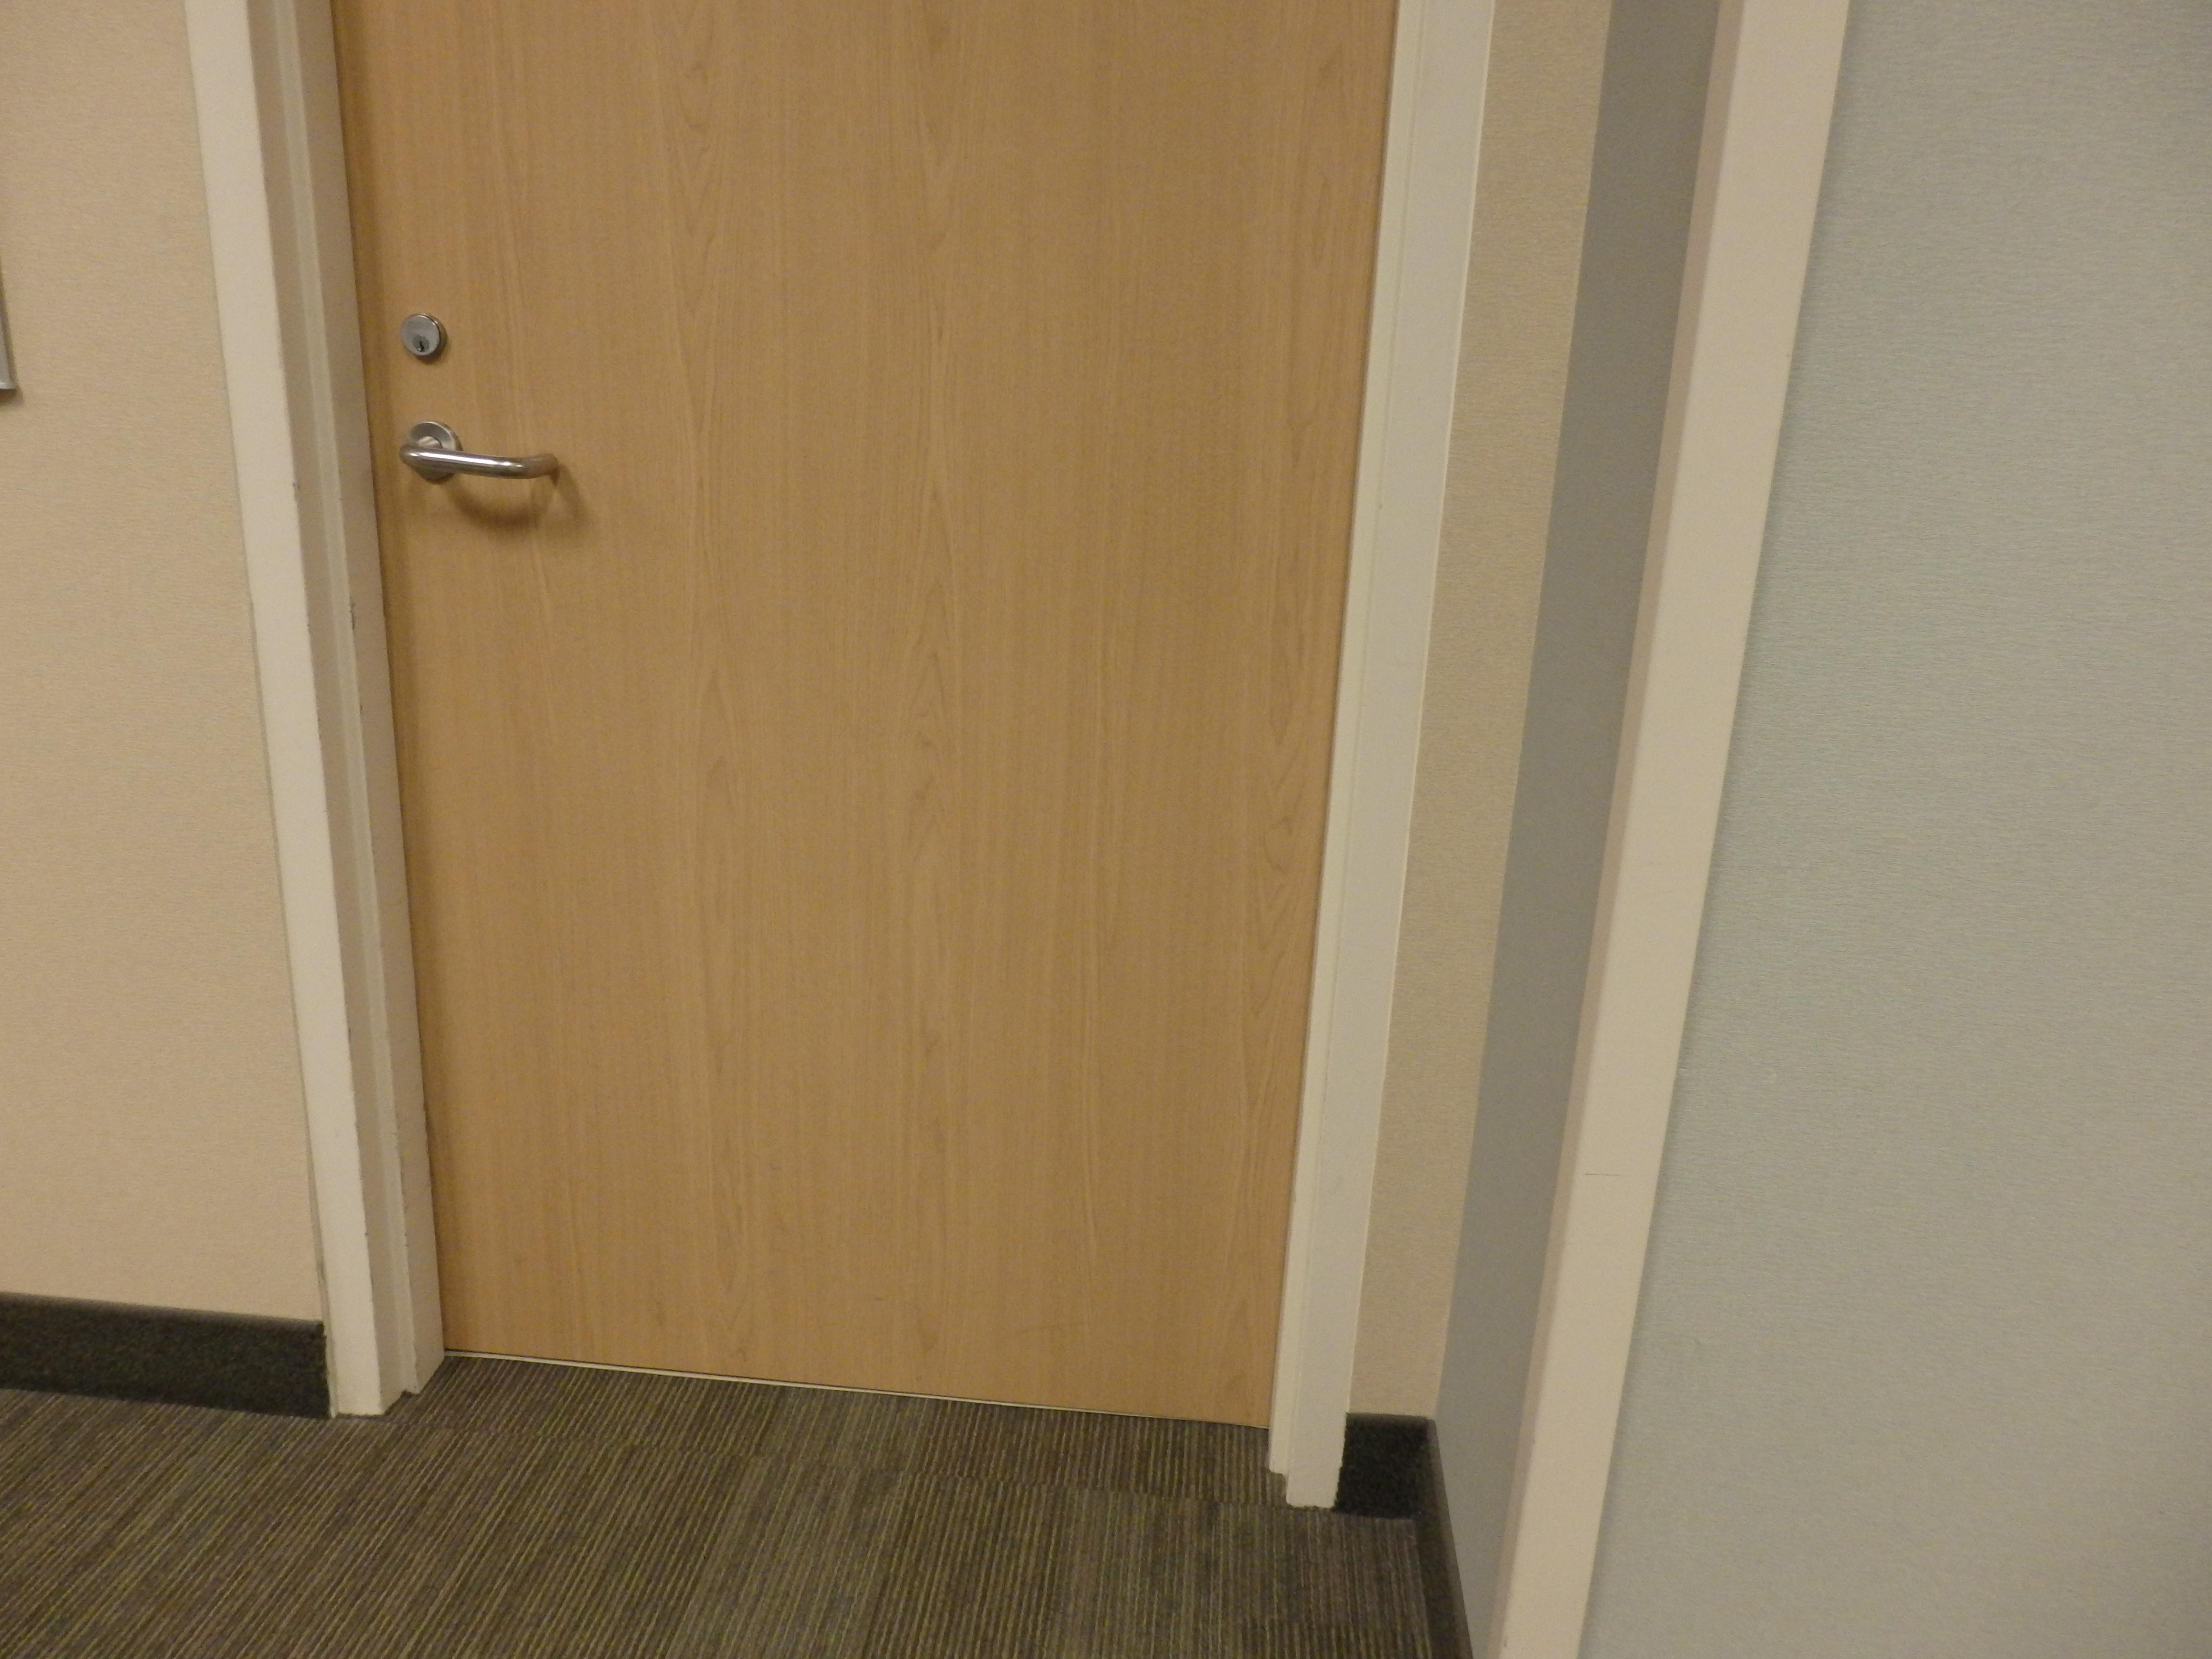door: (298, 0, 1378, 1438)
